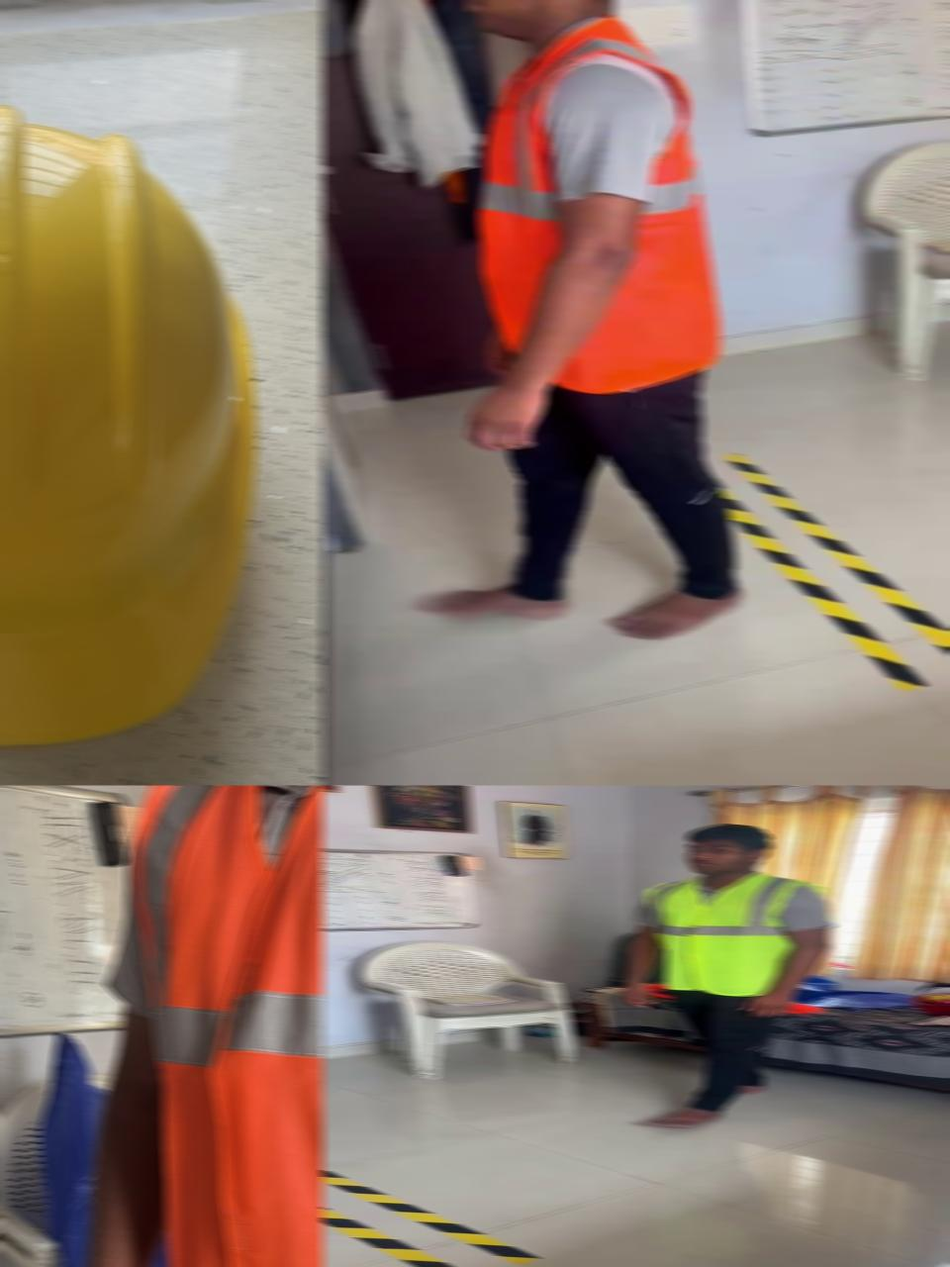BorderLine: (715, 454, 950, 692), (321, 1169, 542, 1267)
Helmet: (0, 104, 259, 746)
No_Helmet: (685, 823, 773, 875)
Person: (415, 0, 742, 640), (66, 785, 325, 1267), (621, 823, 835, 1127)
Vest: (131, 785, 325, 1267), (477, 14, 723, 392), (642, 871, 827, 995)
